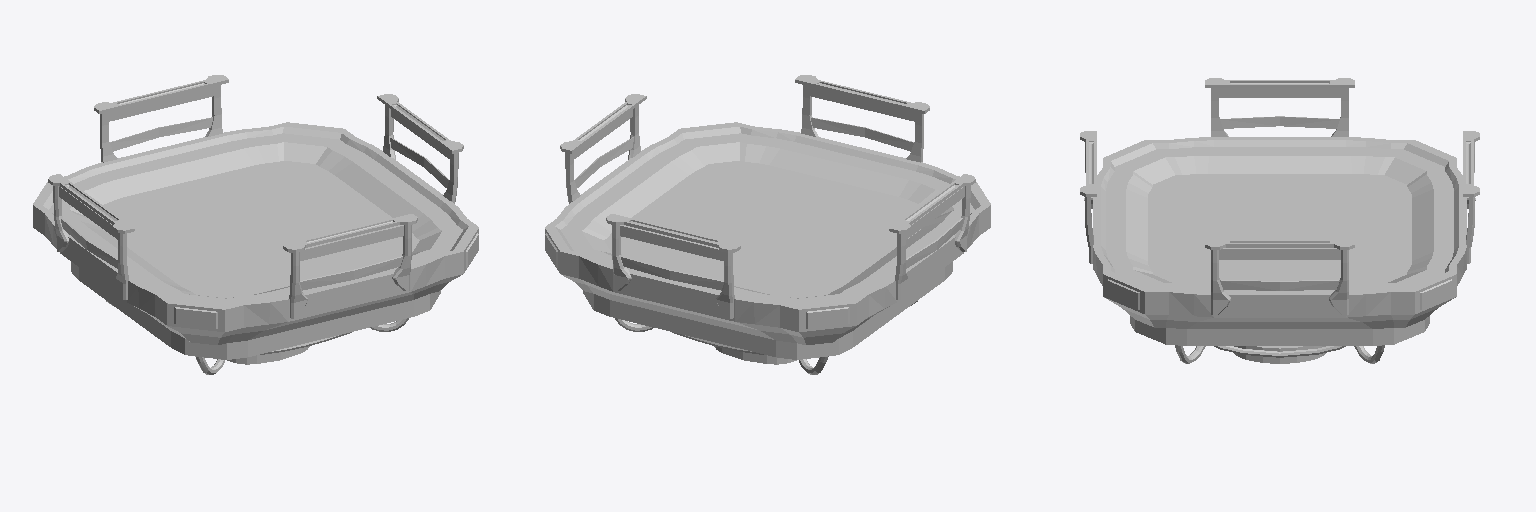
File: PropulsionPlatform.obj
The picture shows the model from 3 angles: view 1: azimuth 30°, elevation 25°; view 2: azimuth 150°, elevation 25°; view 3: azimuth 270°, elevation 25°; orthographic projection.
Parts seen in each view (by area): view 1: Cube_Cube.003; view 2: Cube_Cube.003; view 3: Cube_Cube.003.
Part boxes in pixels (x1,y1,x2,y2): Cube_Cube.003: (33,75,478,374); Cube_Cube.003: (545,75,990,374); Cube_Cube.003: (1080,78,1479,363).
Bounding box in the file's own units: 4.23 × 2.19 × 4.22.